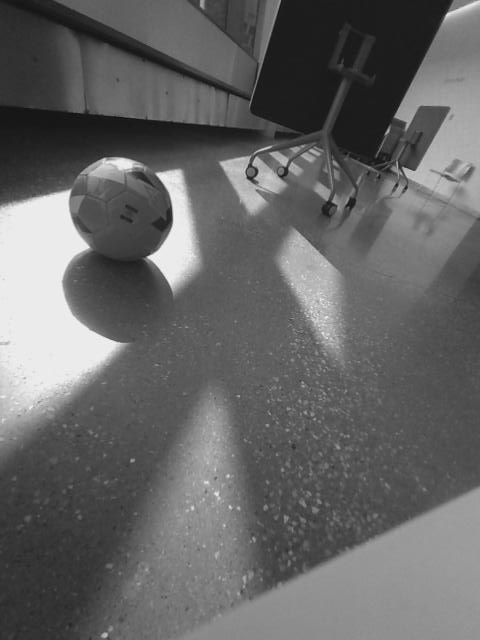ball: (66, 152, 176, 260)
